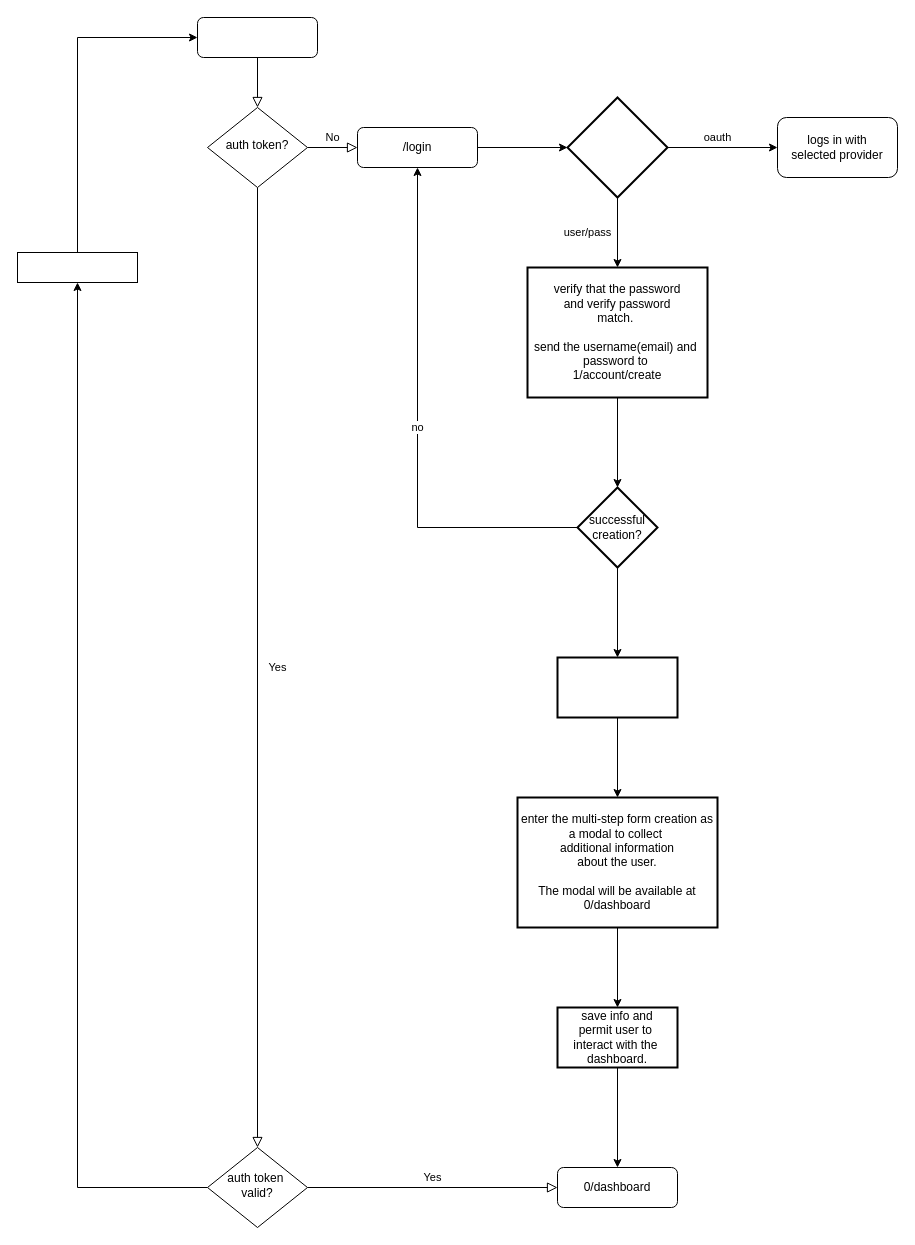
Some shapes in this 915 by 1245 pixel diagram are drawn without their labels. Here are the shapes that lost their labels. From the top down, the centre of each, then its label:
At (x=257, y=37): "landing page".
At (x=617, y=147): "oauth or user/pass".
At (x=77, y=267): "delete the token".
At (x=617, y=687): "save the jwt as a cookie for use when the user returns".
